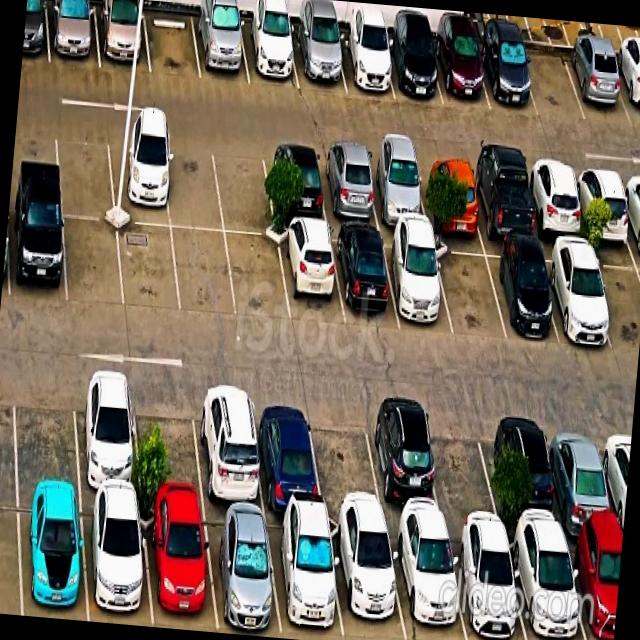car: (138, 514, 212, 631), (11, 507, 87, 620), (206, 520, 279, 636), (187, 413, 261, 522), (270, 524, 339, 640), (80, 512, 148, 626), (333, 534, 405, 640), (70, 405, 142, 510), (366, 419, 436, 526), (395, 535, 464, 640), (255, 422, 319, 532), (514, 543, 586, 640), (492, 420, 554, 529), (428, 423, 492, 527), (458, 539, 523, 640), (547, 433, 611, 534), (552, 250, 614, 354), (389, 236, 451, 334), (496, 246, 556, 346), (107, 127, 171, 219), (422, 146, 480, 245), (476, 157, 534, 255), (338, 228, 395, 326), (277, 229, 339, 319), (576, 166, 632, 263), (262, 142, 324, 228), (527, 164, 582, 260), (387, 10, 442, 103), (8, 214, 67, 300), (341, 2, 393, 98), (483, 15, 534, 111), (193, 0, 249, 87), (568, 22, 622, 112), (436, 16, 488, 108), (293, 0, 346, 90), (243, 0, 297, 86), (368, 150, 422, 235), (321, 147, 374, 228), (95, 0, 148, 67), (47, 0, 97, 66)
free: (8, 388, 82, 504), (133, 406, 201, 514), (308, 424, 381, 524), (438, 249, 503, 339), (61, 220, 124, 308), (116, 218, 177, 308), (165, 136, 222, 231), (218, 139, 276, 230), (52, 136, 114, 219), (224, 230, 283, 315), (144, 0, 202, 81), (524, 28, 578, 114), (172, 226, 230, 306)
